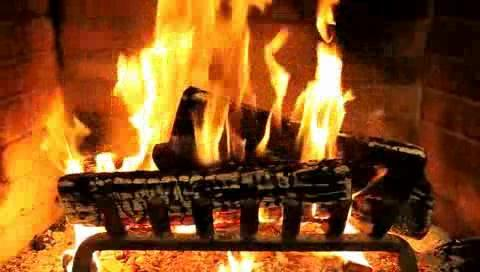fire: (113, 4, 348, 178)
